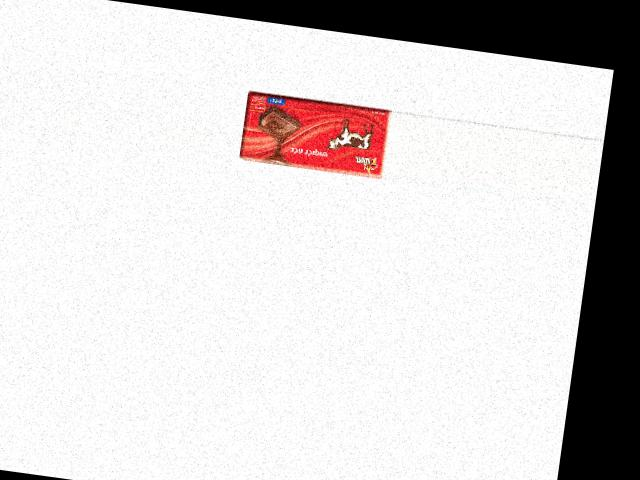chocolate: (238, 90, 392, 179)
